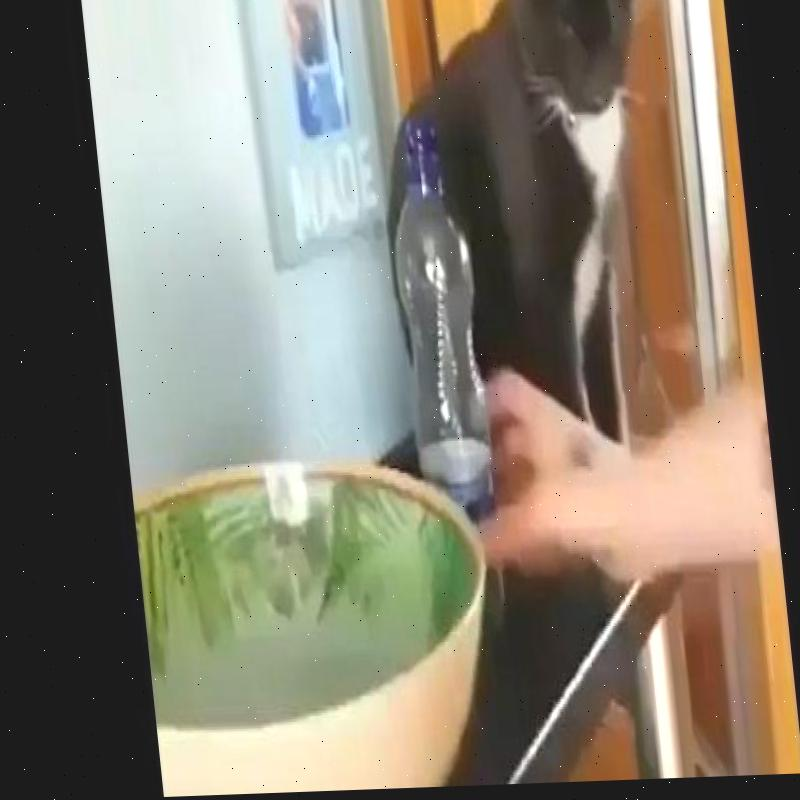botella: (378, 122, 496, 622)
